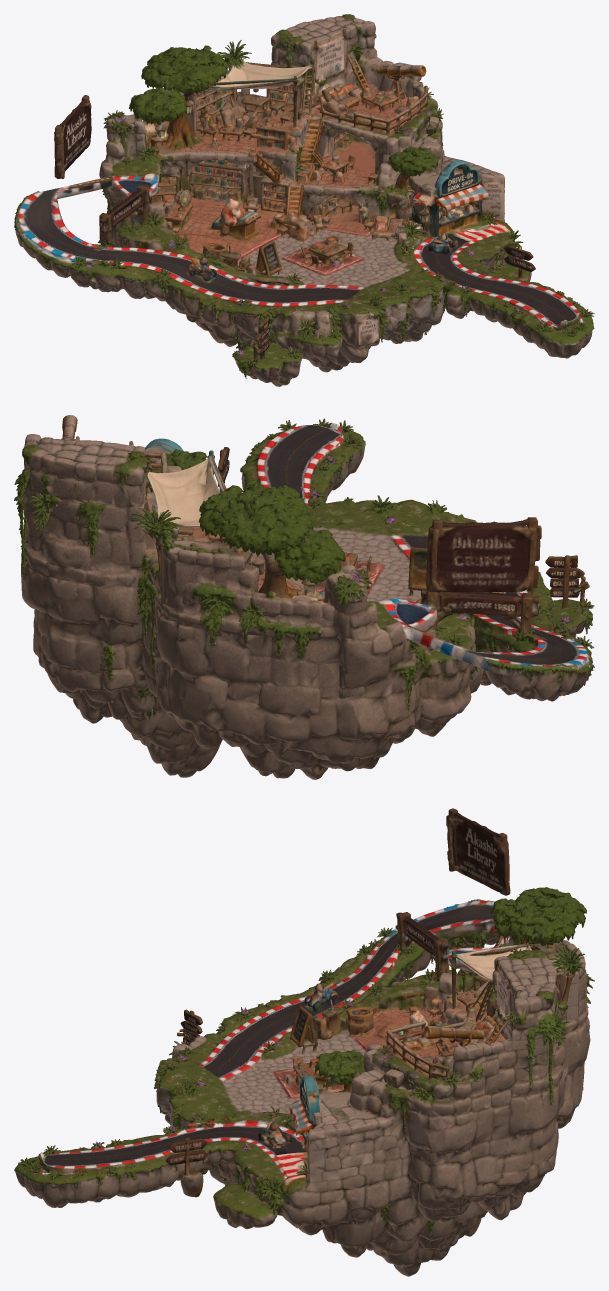
The model's file is kfb-meshy-akashic-library.browser-a.v1.glb.
3 views of the same model, one above another, from view 1: azimuth 30°, elevation 25°; view 2: azimuth 150°, elevation 25°; view 3: azimuth 270°, elevation 25° (orthographic). The views are drawn at different scales.
Bounding box in the file's own units: 1.84 × 1.16 × 1.91.
Materials: 1 (1 with a texture image).
